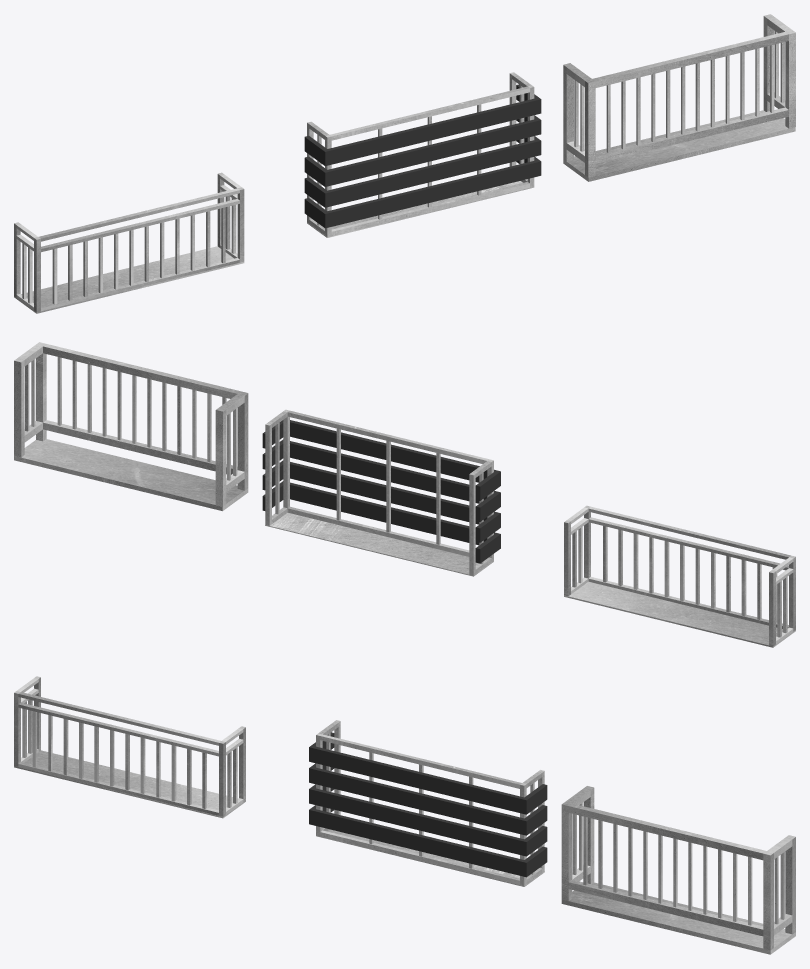
Rendered from Balcony_Collection.fbx.
The picture shows the model from 3 angles, top to bottom: view 1: azimuth 30°, elevation 25°; view 2: azimuth 150°, elevation 25°; view 3: azimuth 330°, elevation 25°; orthographic projection.
Visible parts, largest first — view 1: Balcony_002, Balcony_003, Balcony_001; view 2: Balcony_002, Balcony_003, Balcony_001; view 3: Balcony_002, Balcony_003, Balcony_001.
Boxes of the visible parts, x1,y1,x2,y2 form: Balcony_002: (304,72,541,237); Balcony_003: (563,14,795,181); Balcony_001: (14,172,244,313); Balcony_002: (262,409,500,576); Balcony_003: (14,342,248,511); Balcony_001: (564,505,795,647); Balcony_002: (309,720,547,886); Balcony_003: (561,786,795,954); Balcony_001: (14,676,245,818).
Bounding box in the file's own units: 619 × 79.07 × 40.97.
Materials: 2 (1 with a texture image).
